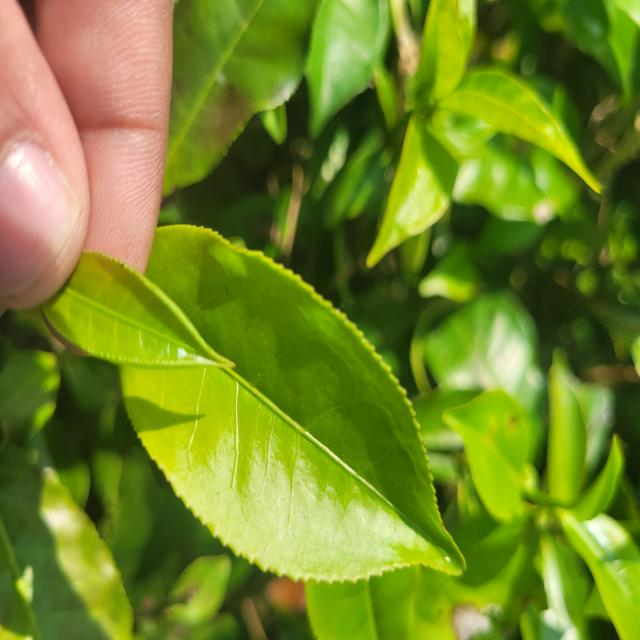Catagory A(1-2 days): (42, 230, 241, 398)
